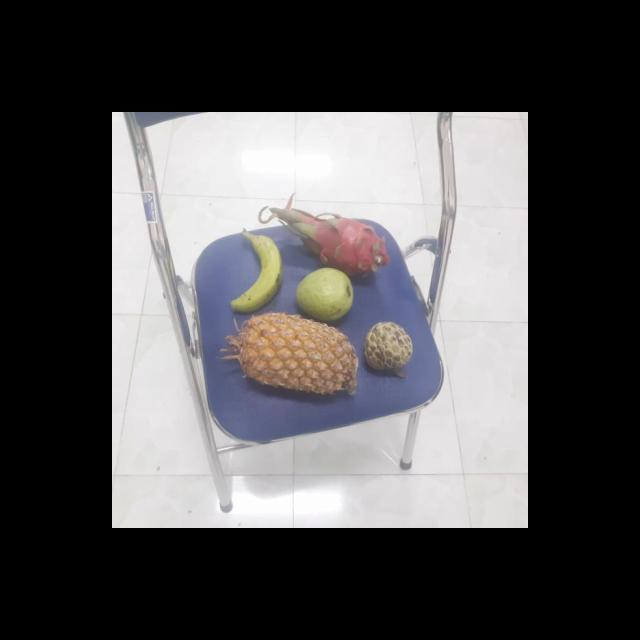Sakya fruit: (360, 323, 412, 375)
banana: (226, 232, 283, 312)
guava: (291, 267, 355, 323)
pineapple: (230, 314, 355, 398)
pitaya: (285, 216, 386, 276)
